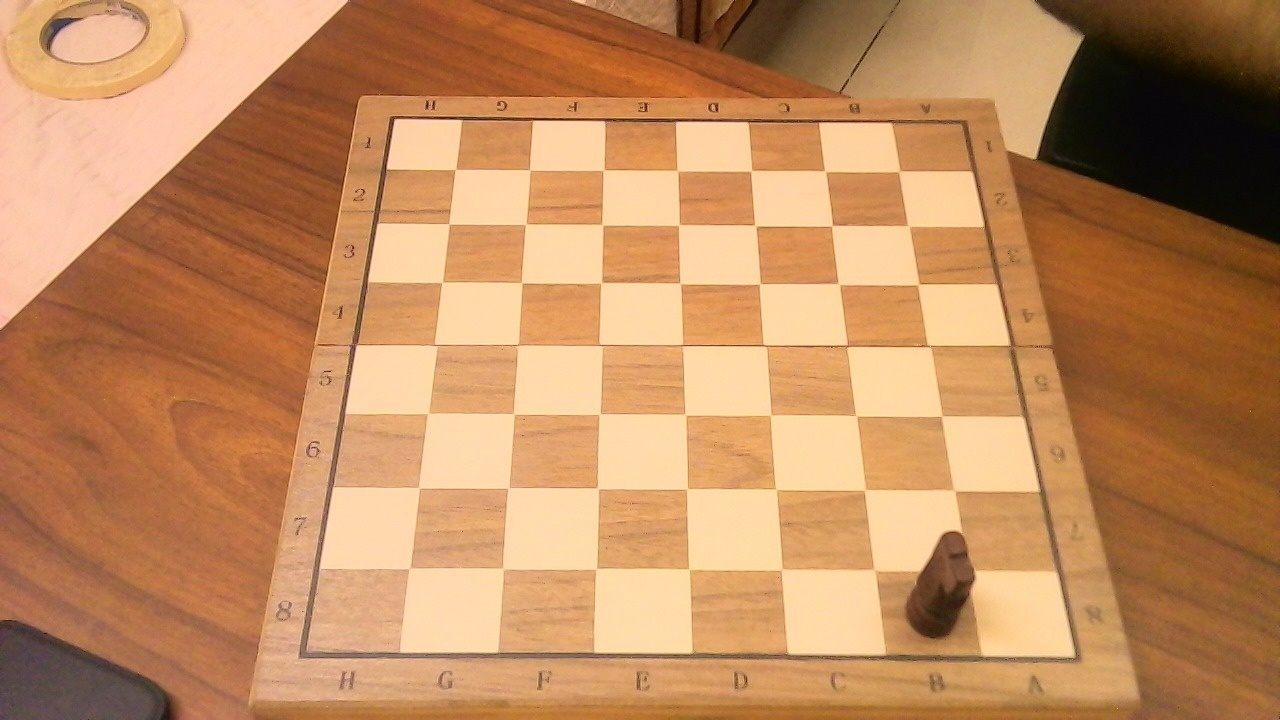n: (901, 515, 988, 643)
